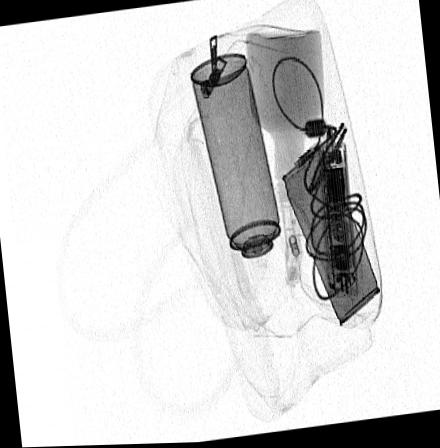Sprayer: (190, 54, 287, 302)
